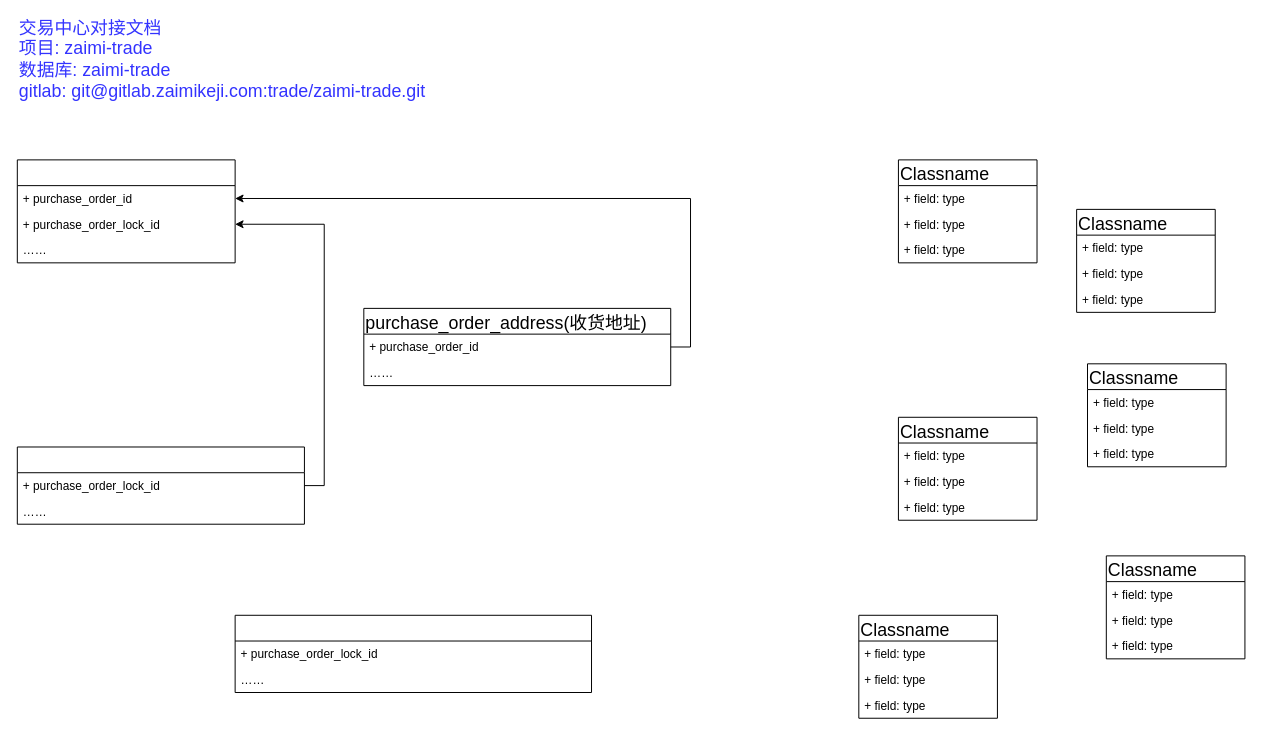
This 1262x738 diagram has some shape labels left out. The shapes that lost their labels are listed below. From the top down, each one's box as (x1, y1, x2, y2) in pixels, then its label:
(16, 159, 235, 263): purchase_order(供货单)
(16, 446, 304, 524): purchase_order_lock(锁定单)
(234, 614, 592, 693): purchase_order_lock_address(锁定单地址)
